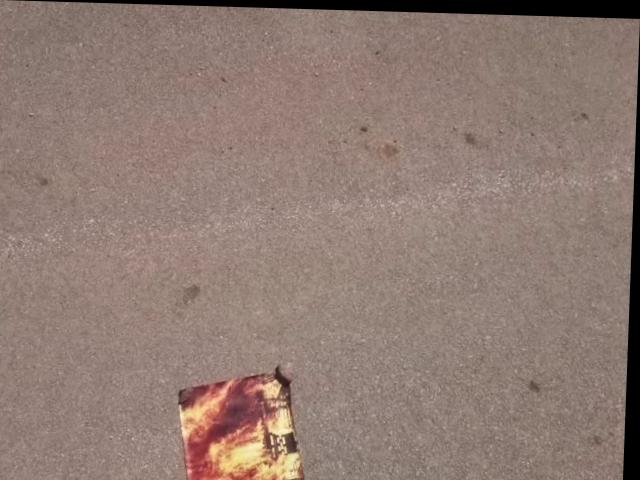fire-poster: (175, 356, 316, 480)
